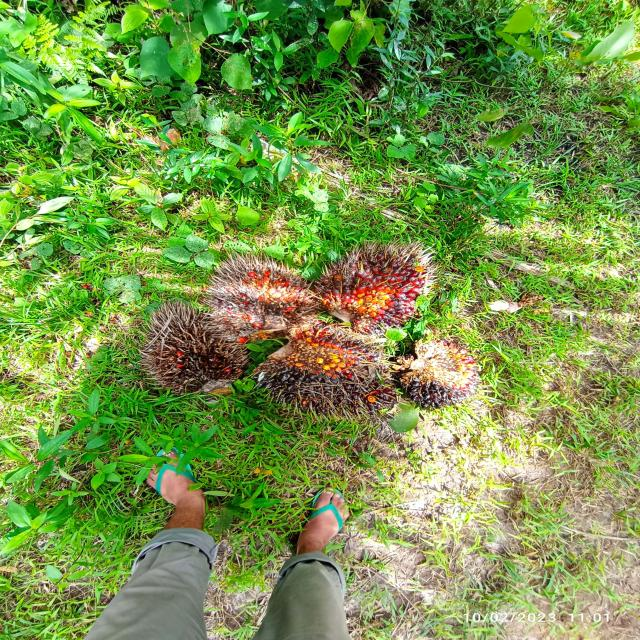fraksi 00: (262, 328, 407, 421), (386, 334, 497, 413)
fraksi 3: (316, 221, 447, 327)
fraksi 4: (132, 304, 246, 401), (199, 246, 316, 339)
